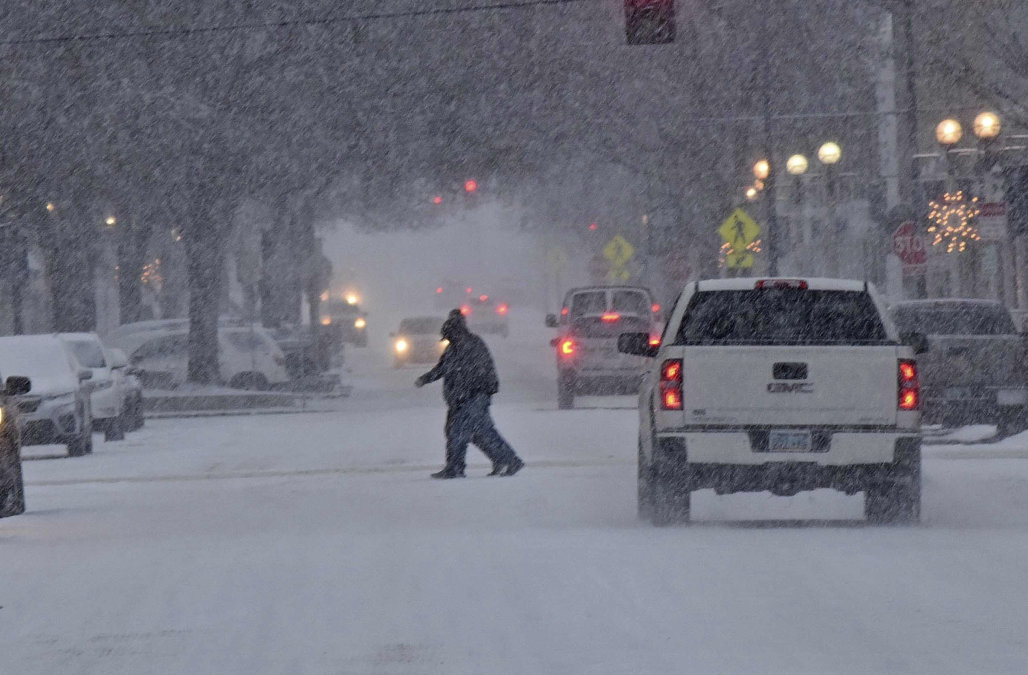car: (550, 311, 654, 416)
person: (437, 308, 521, 483)
truck: (633, 278, 927, 532), (892, 295, 1027, 443)
